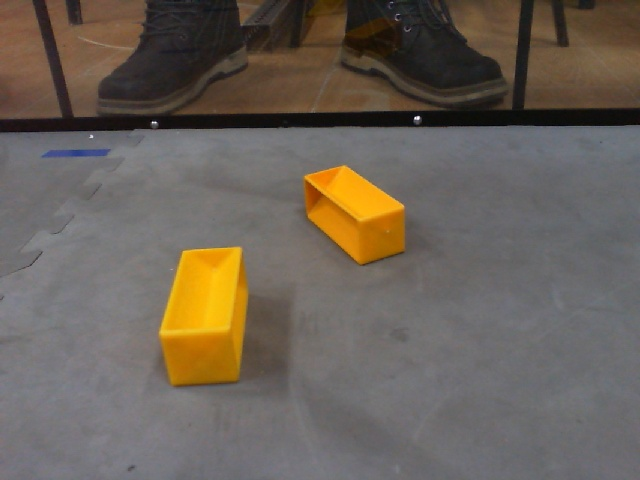YellowSample: (155, 242, 255, 389), (303, 159, 412, 270)
